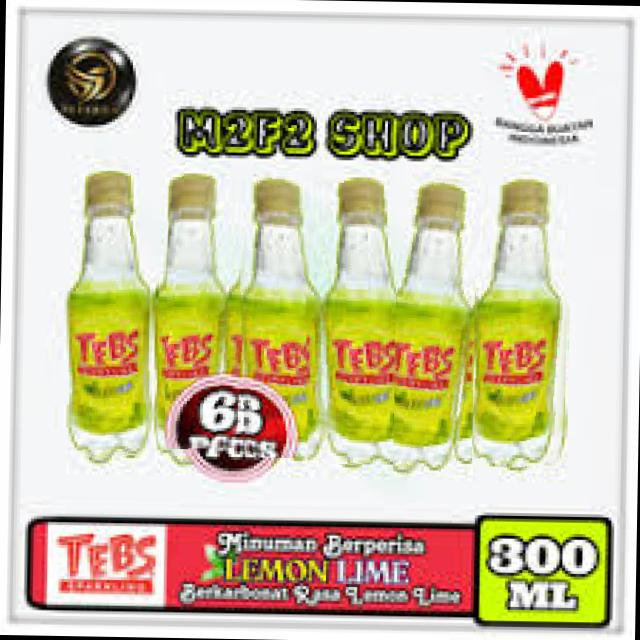plastic bottle: (298, 177, 421, 465), (46, 169, 160, 459), (472, 174, 580, 468), (392, 171, 492, 477), (164, 160, 256, 450), (232, 168, 322, 458)
